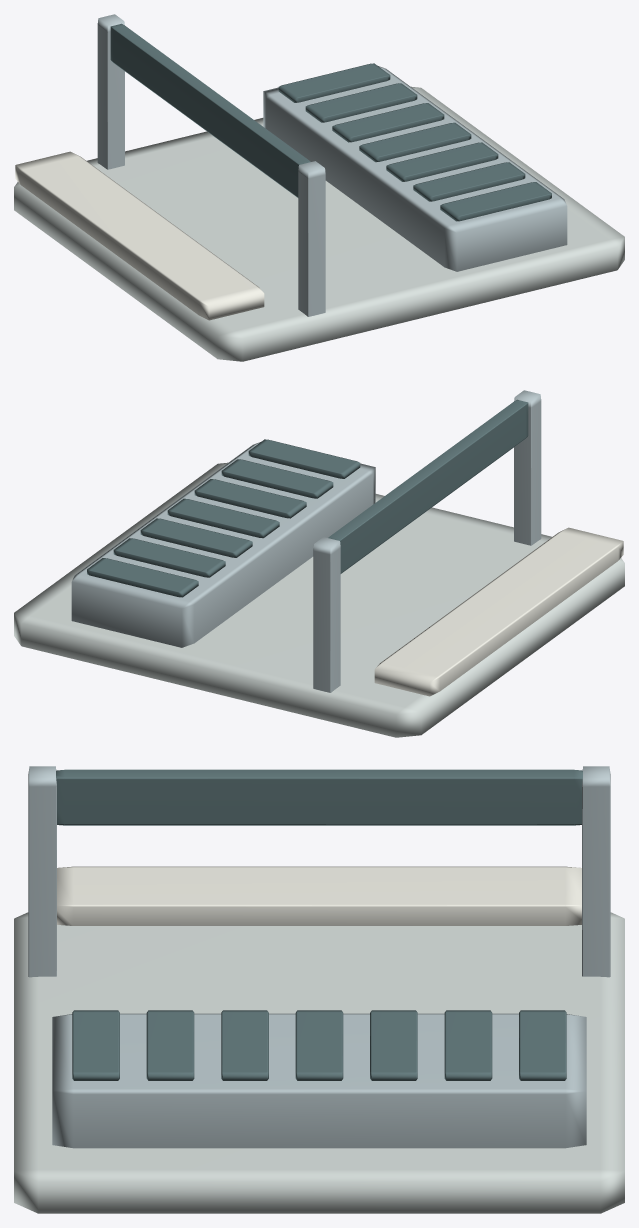
The model's file is intake.glb.
3 renders of one model, top to bottom at view 1: azimuth 30°, elevation 25°; view 2: azimuth 150°, elevation 25°; view 3: azimuth 270°, elevation 25°, orthographic. The views are drawn at different scales.
Visible parts, largest first — view 1: intake_bed, embedding_drawer, paper_roll, blade, cutter_post_-1.45, cutter_post_1.45, drawer_slot_2, drawer_slot_1, drawer_slot_4, drawer_slot_6, drawer_slot_3, drawer_slot_5 (+1 smaller); view 2: intake_bed, embedding_drawer, paper_roll, blade, cutter_post_1.45, cutter_post_-1.45, drawer_slot_4, drawer_slot_5, drawer_slot_0, drawer_slot_2, drawer_slot_3, drawer_slot_1 (+1 smaller); view 3: intake_bed, embedding_drawer, paper_roll, blade, cutter_post_-1.45, cutter_post_1.45, drawer_slot_1, drawer_slot_5, drawer_slot_3, drawer_slot_0, drawer_slot_2, drawer_slot_4 (+1 smaller).
Boxes of the visible parts, x1,y1,x2,y2 form: intake_bed: [14, 86, 624, 361]; embedding_drawer: [263, 66, 567, 271]; paper_roll: [15, 151, 264, 320]; blade: [110, 23, 310, 197]; cutter_post_-1.45: [298, 161, 325, 316]; cutter_post_1.45: [97, 14, 124, 169]; drawer_slot_2: [386, 142, 498, 181]; drawer_slot_1: [413, 162, 525, 201]; drawer_slot_4: [332, 103, 444, 142]; drawer_slot_6: [278, 63, 390, 102]; drawer_slot_3: [359, 122, 471, 162]; drawer_slot_5: [305, 83, 417, 122]; intake_bed: [14, 462, 624, 737]; embedding_drawer: [71, 442, 375, 647]; paper_roll: [374, 527, 623, 696]; blade: [328, 399, 528, 573]; cutter_post_1.45: [313, 537, 340, 692]; cutter_post_-1.45: [514, 390, 541, 545]; drawer_slot_4: [140, 518, 252, 557]; drawer_slot_5: [113, 538, 225, 577]; drawer_slot_0: [248, 439, 360, 478]; drawer_slot_2: [194, 479, 306, 518]; drawer_slot_3: [167, 498, 279, 538]; drawer_slot_1: [221, 459, 333, 498]; intake_bed: [14, 912, 624, 1213]; embedding_drawer: [52, 1013, 586, 1148]; paper_roll: [57, 866, 581, 925]; blade: [56, 769, 582, 825]; cutter_post_-1.45: [28, 766, 56, 977]; cutter_post_1.45: [582, 766, 610, 977]; drawer_slot_1: [146, 1010, 194, 1080]; drawer_slot_5: [444, 1010, 492, 1080]; drawer_slot_3: [295, 1010, 343, 1080]; drawer_slot_0: [72, 1010, 119, 1080]; drawer_slot_2: [221, 1010, 268, 1080]; drawer_slot_4: [370, 1010, 417, 1080].
Size of the model in its own units: 3.45 by 1.35 by 3.2.
